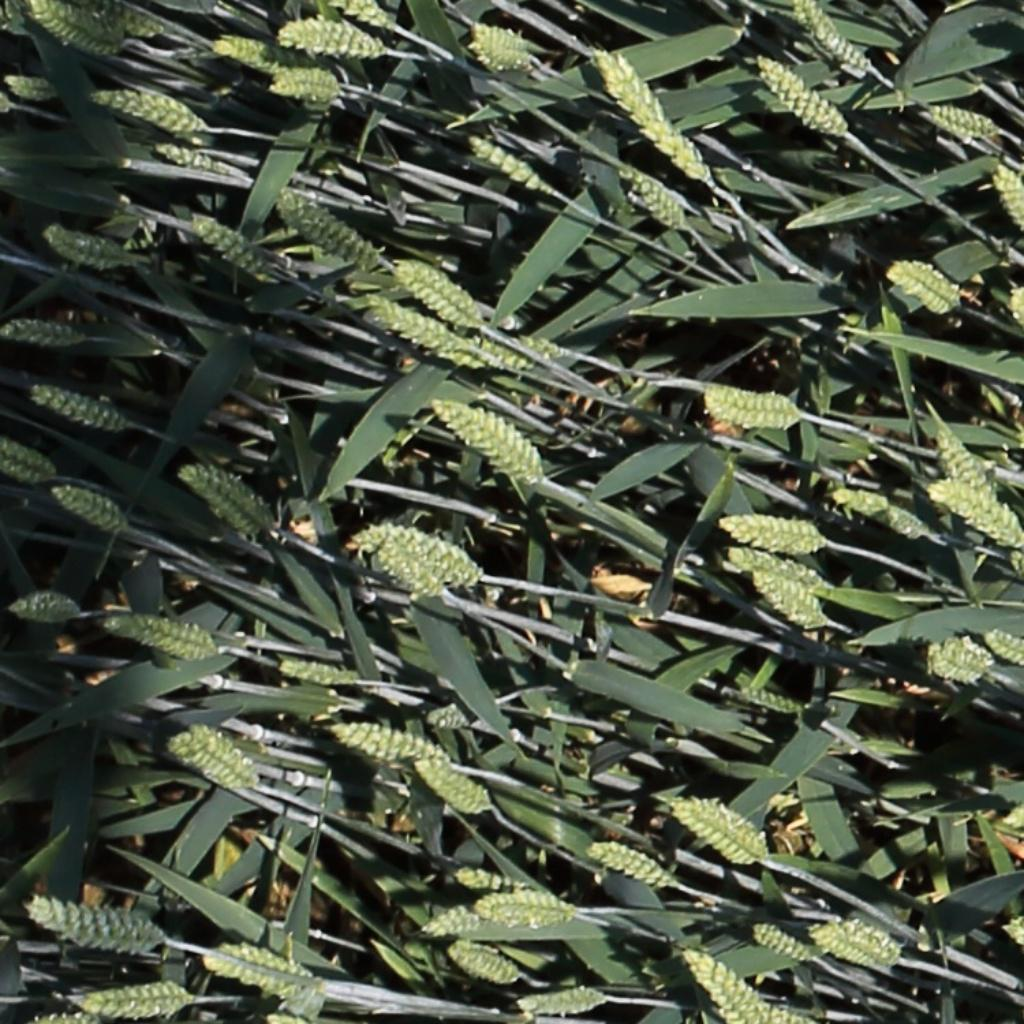0-0: (592, 53, 714, 188), (364, 296, 510, 370), (28, 889, 167, 959), (428, 397, 542, 479), (274, 184, 375, 266), (426, 321, 566, 380), (753, 54, 847, 136), (354, 525, 477, 582), (931, 421, 1003, 514), (419, 893, 565, 937), (793, 2, 872, 77), (681, 947, 760, 1021), (390, 259, 479, 324), (931, 483, 1022, 546), (91, 86, 208, 135), (170, 722, 253, 790), (619, 165, 694, 240), (62, 976, 198, 1017), (177, 466, 263, 528), (204, 941, 314, 989), (412, 763, 503, 821), (275, 16, 386, 63), (363, 536, 451, 595), (329, 723, 445, 767), (27, 0, 119, 55), (466, 131, 547, 193), (188, 211, 266, 275), (809, 918, 904, 970), (830, 486, 925, 537), (701, 385, 806, 431), (27, 382, 122, 430), (717, 512, 822, 553), (586, 832, 672, 882), (722, 546, 824, 587), (886, 260, 960, 316), (58, 0, 162, 38), (106, 618, 211, 655), (151, 137, 238, 181), (213, 34, 309, 73), (748, 574, 823, 623), (40, 225, 128, 266), (920, 637, 995, 684), (5, 582, 85, 626), (469, 889, 578, 921), (50, 484, 122, 531), (1, 316, 91, 353), (989, 159, 1024, 248), (445, 943, 517, 984), (262, 69, 345, 103), (468, 34, 538, 72), (924, 102, 1000, 135), (749, 924, 815, 961), (516, 987, 606, 1014), (735, 684, 804, 716), (468, 25, 531, 60), (275, 659, 357, 685), (451, 869, 527, 897), (0, 438, 54, 476), (984, 629, 1024, 669), (337, 0, 390, 28), (2, 72, 57, 94), (1003, 920, 1024, 966), (423, 709, 469, 729), (1007, 285, 1024, 339), (1006, 546, 1024, 587), (1000, 811, 1024, 828)
